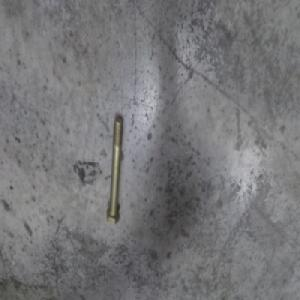Bolt: (106, 117, 126, 230)
